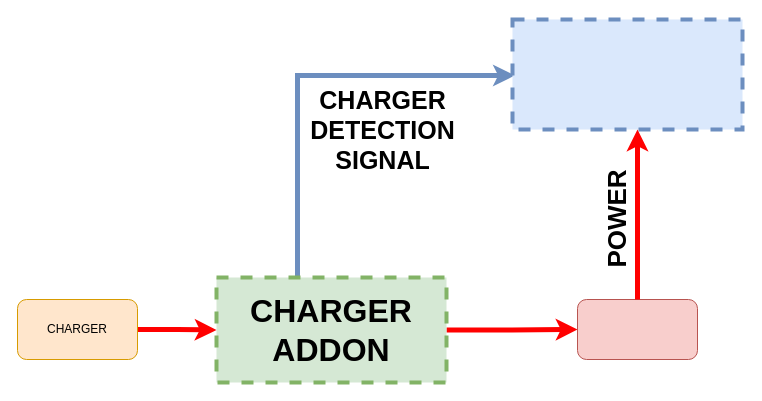
This 762x401 diagram has some shape labels left out. Here are the shapes that lost their labels. From the top down, the centre of each, then its label:
point (627, 74): PDS
point (637, 329): BATTERY
